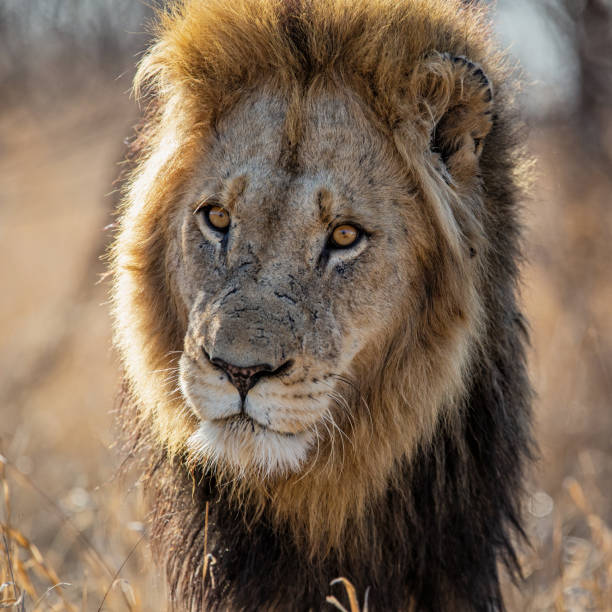lion: (85, 21, 523, 564)
